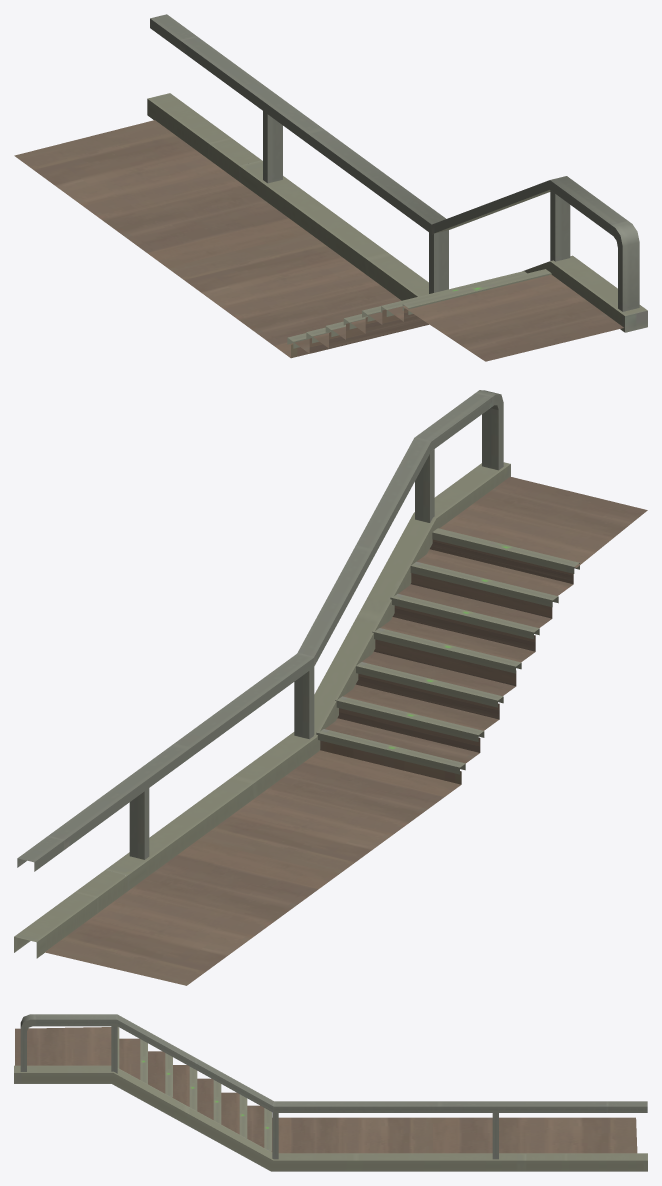
The model's file is pref_sm_city_riverwall08_snow_lv3.fbx.
The picture shows the model from 3 angles, top to bottom: view 1: azimuth 30°, elevation 25°; view 2: azimuth 150°, elevation 25°; view 3: azimuth 270°, elevation 25°; orthographic projection. The views are drawn at different scales.
Parts seen in each view (by area): view 1: pref_sm_city_riverwall08_snow_lv3; view 2: pref_sm_city_riverwall08_snow_lv3; view 3: pref_sm_city_riverwall08_snow_lv3.
Boxes of the visible parts, x1=… form: pref_sm_city_riverwall08_snow_lv3: x1=14, y1=14, x2=647, y2=361; pref_sm_city_riverwall08_snow_lv3: x1=14, y1=390, x2=647, y2=985; pref_sm_city_riverwall08_snow_lv3: x1=14, y1=1014, x2=647, y2=1171.
Bounding box in the file's own units: 3 × 3.9 × 14.85.
